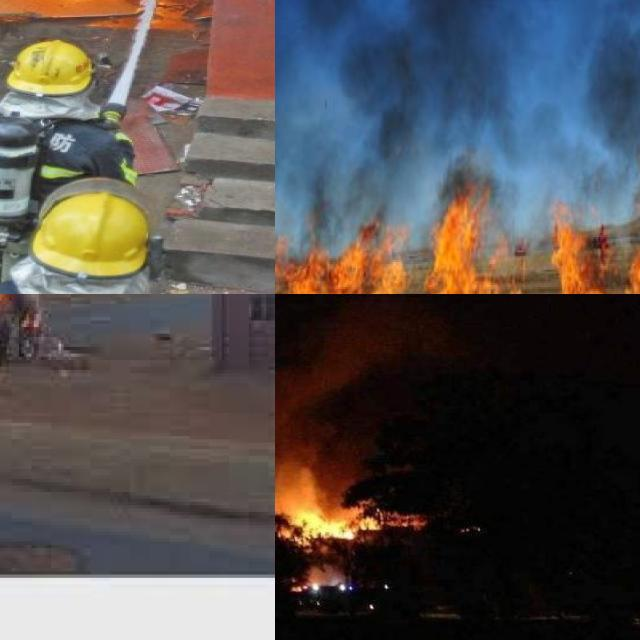fire: (275, 148, 640, 294), (275, 448, 382, 546)
smoke: (275, 0, 640, 166), (275, 327, 375, 529)
